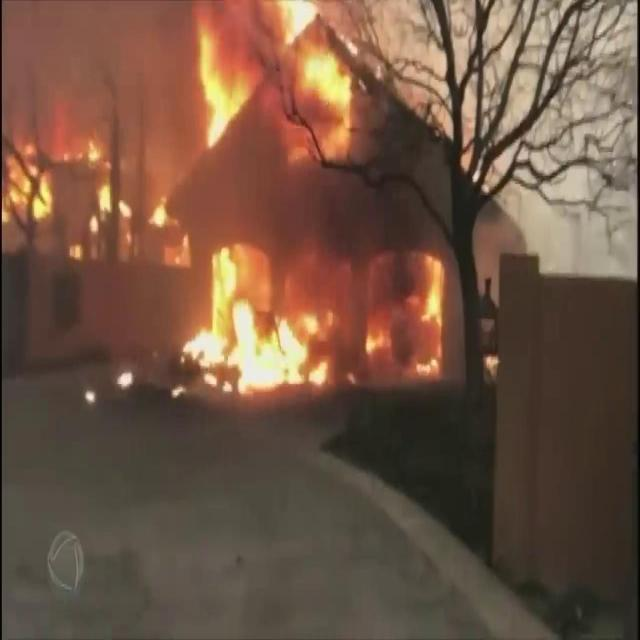Fire: (181, 238, 444, 386), (0, 134, 192, 270), (195, 4, 352, 165), (488, 354, 499, 380)
Smoke: (0, 0, 184, 116)
